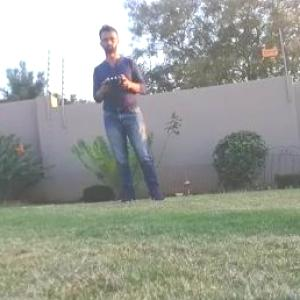follow: (90, 17, 173, 207)
